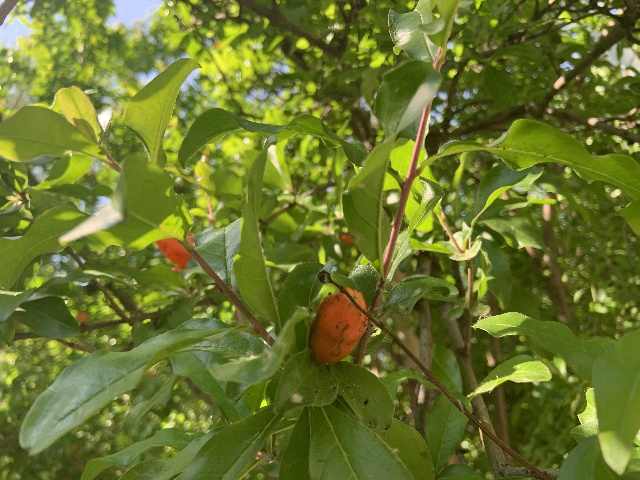bud: (309, 289, 366, 366)
flower: (156, 230, 194, 271)
